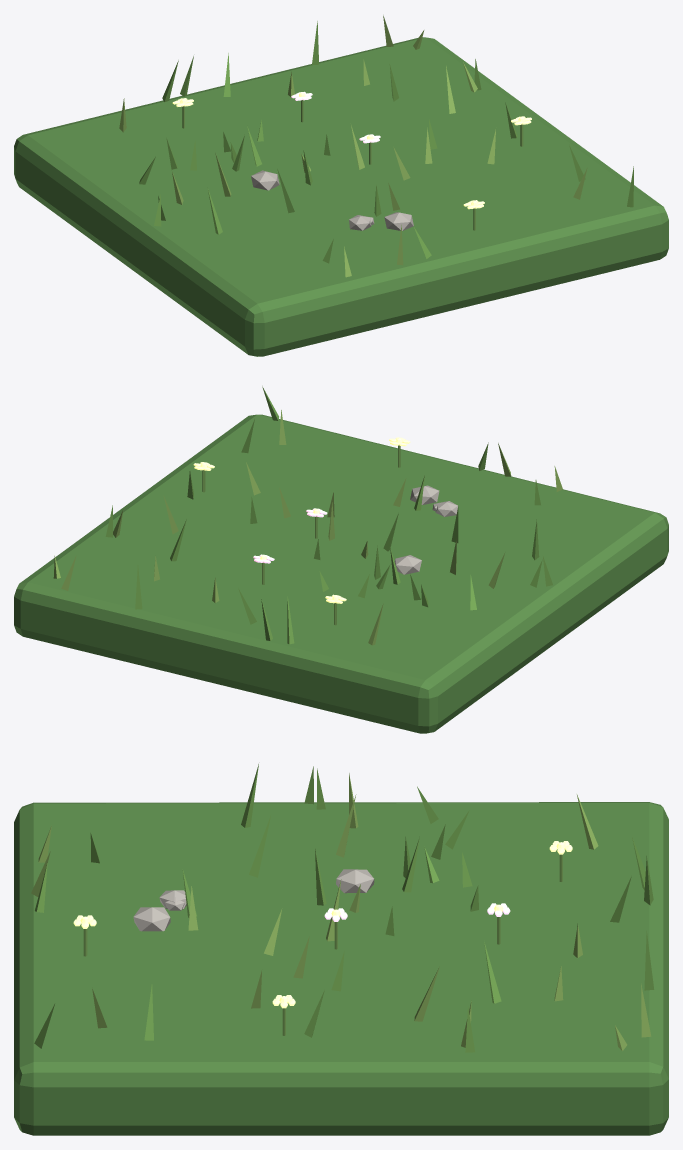
File: grass_2.glb
3 renders of one model, top to bottom at view 1: azimuth 30°, elevation 25°; view 2: azimuth 150°, elevation 25°; view 3: azimuth 270°, elevation 25°, orthographic. The views are drawn at different scales.
Visible parts, largest first — view 1: Cube; view 2: Cube; view 3: Cube.
Part boxes in pixels (x1=…): Cube: x1=14, y1=15, x2=668, y2=356; Cube: x1=14, y1=386, x2=668, y2=733; Cube: x1=14, y1=764, x2=668, y2=1135.
Size of the model in its own units: 4.02 by 0.9127 by 4.02.
